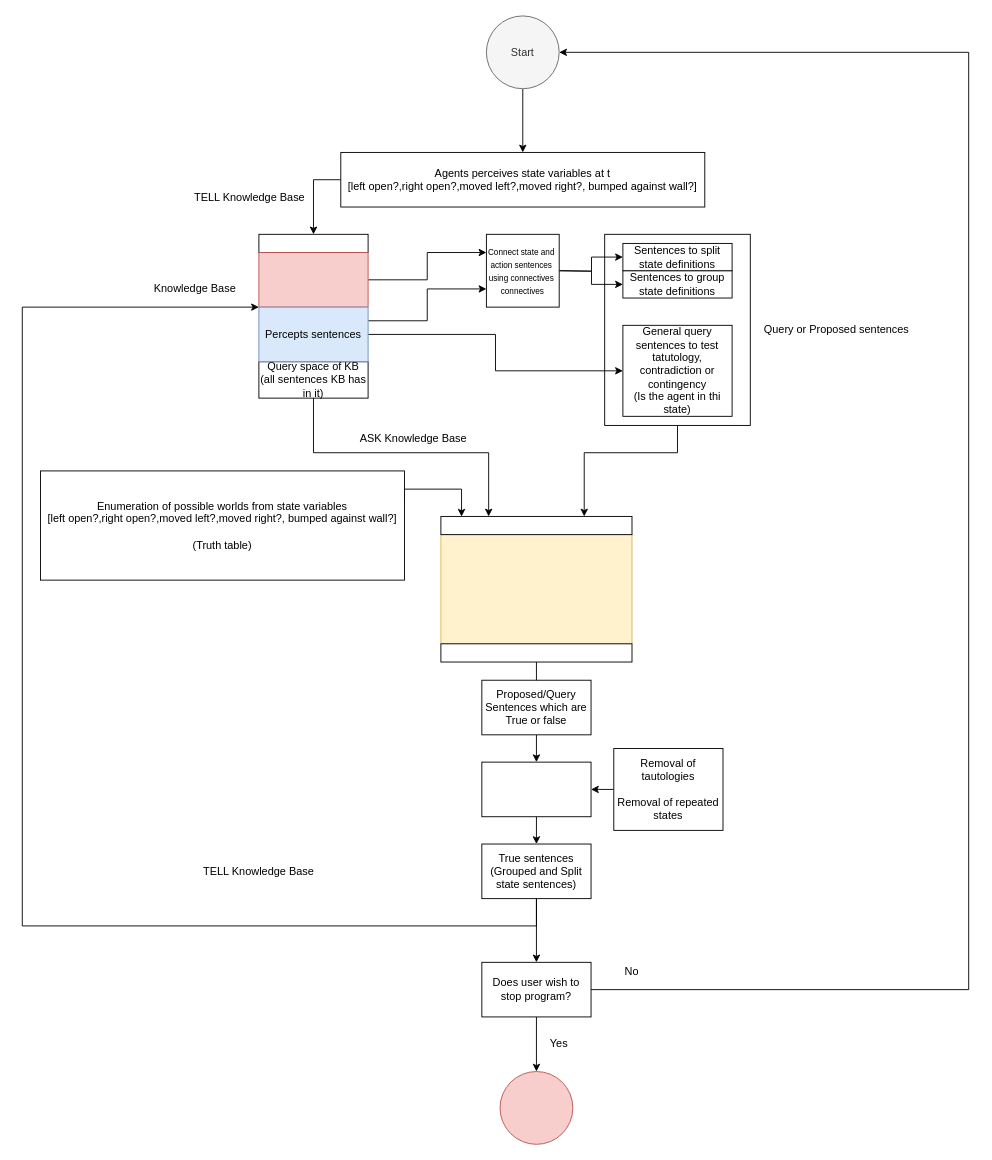
Some shapes in this 992 by 1160 pixel diagram are drawn without their labels. Here are the shapes that lost their labels. From the top down, the centre of each, then its label:
the point at 313,243: Input sentences to KB
the point at 313,279: State definitions sentences
the point at 536,525: Input to Inference
the point at 536,589: Inference
the point at 536,652: Output of Inference
the point at 536,789: Remove false sentences
the point at 536,1107: Stop
